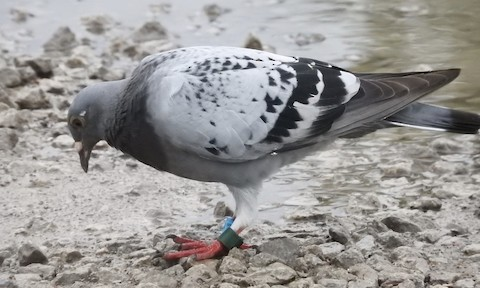pigeon: (57, 35, 475, 267)
